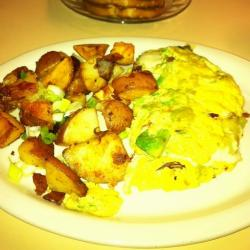omelette: (124, 43, 243, 199)
